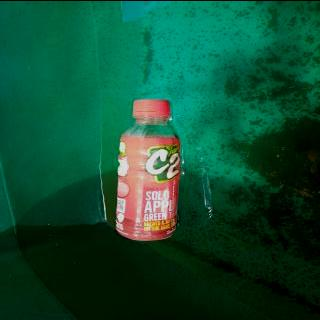bottle: (112, 98, 184, 240)
